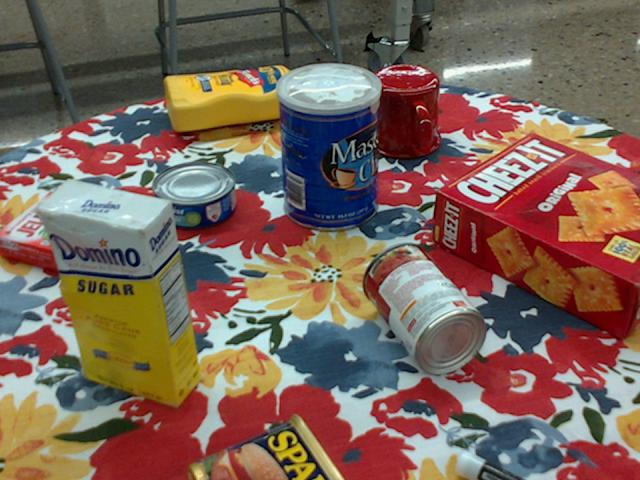cracker_box: (432, 133, 639, 340)
gelatin_box: (0, 194, 112, 274)
large_marker: (457, 450, 527, 479)
master_chef_can: (277, 63, 381, 232)
mug: (363, 65, 441, 159)
mustard_bottle: (162, 65, 320, 130)
potted_meat_can: (188, 413, 346, 479)
sugar_box: (35, 177, 201, 407)
tomato_soup_can: (362, 243, 488, 374)
tuna_fish_can: (150, 162, 234, 229)
